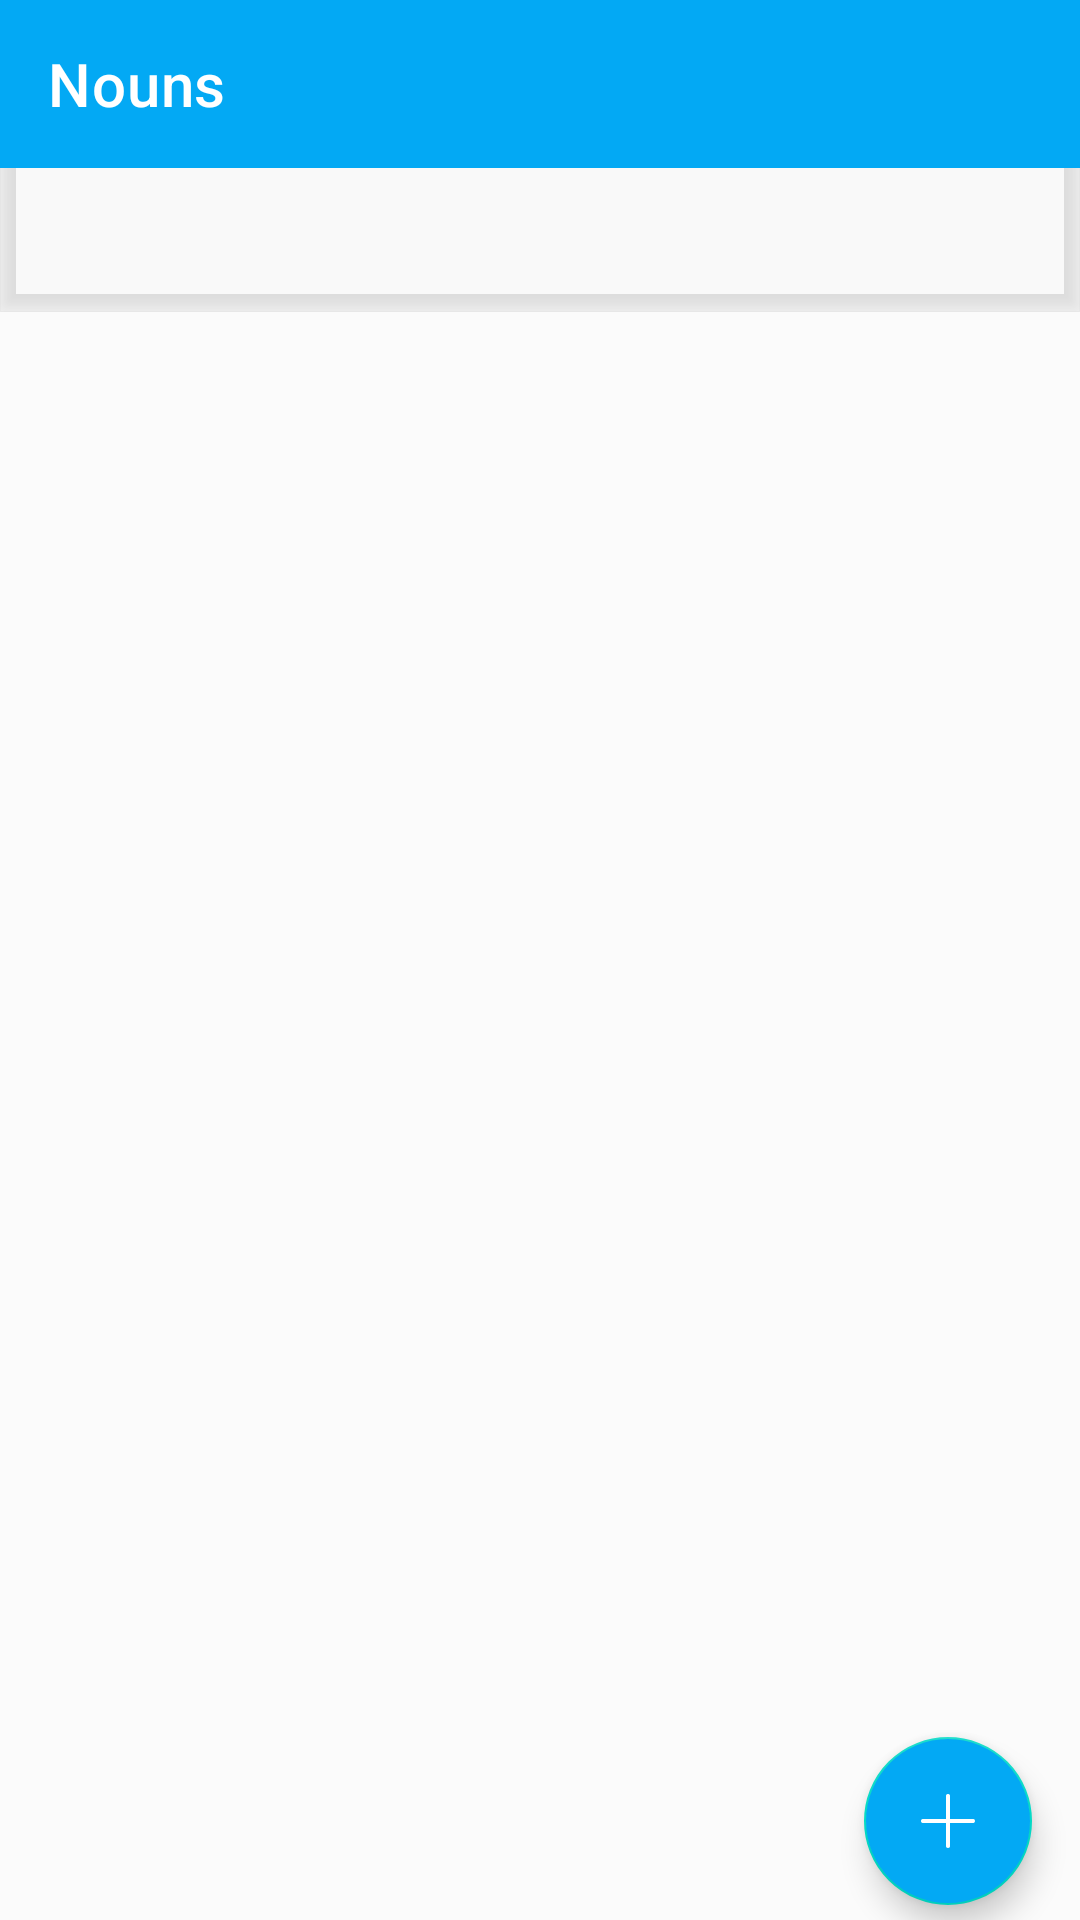

Locate icon controls on the screen. Image size 1080 × 1920, boxes as (x1, y1, x2, y2).
plus: (864, 1737, 1032, 1905)
